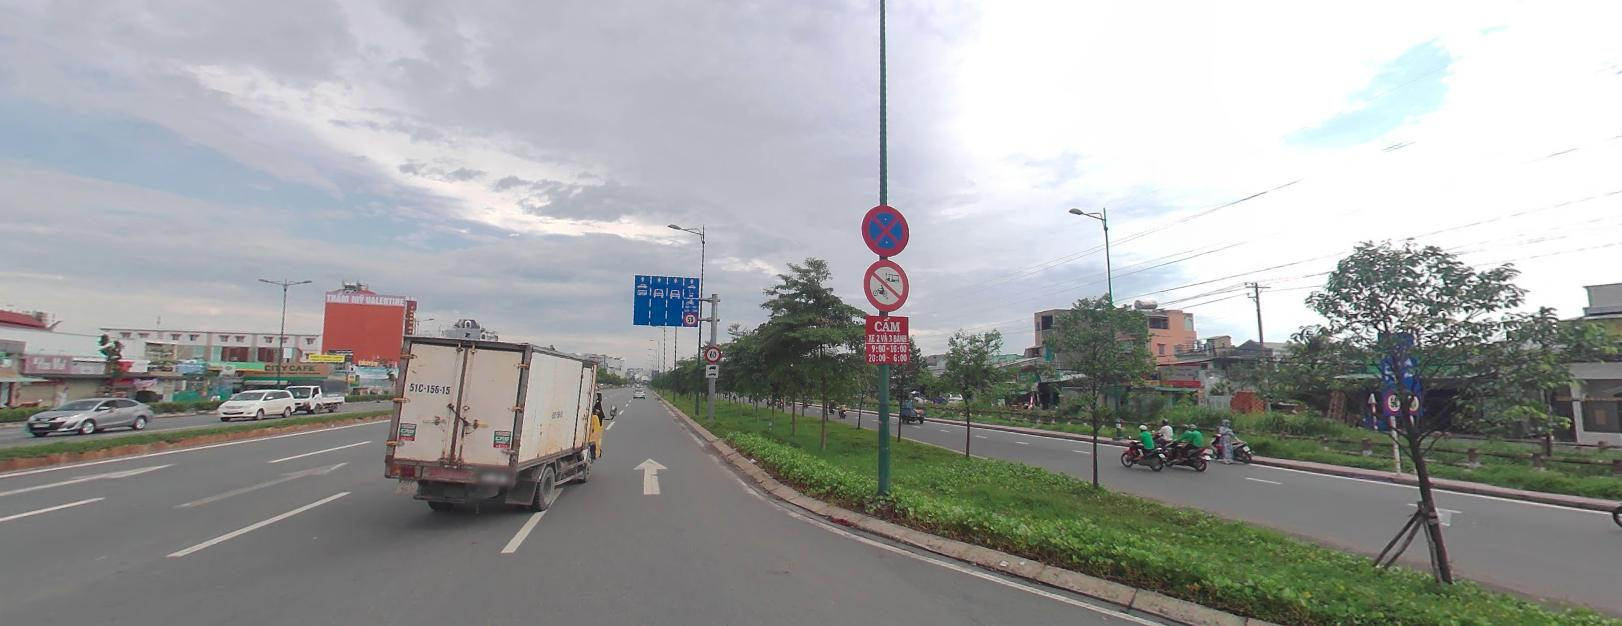Cam con lai: (861, 256, 909, 310)
Cam dung va do: (859, 203, 909, 255)
Gioi han toc do: (1403, 391, 1420, 411), (704, 342, 721, 360), (1386, 391, 1400, 412), (684, 310, 697, 324)
